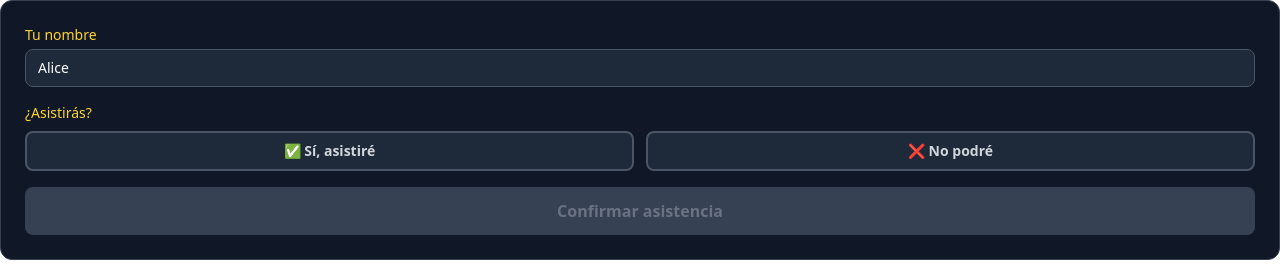
Scenario: RsvpForm › submit button is enabled after selecting attending
Click the button "✅ Sí, asistiré" at (330, 151), box 25,131 -> 634,171
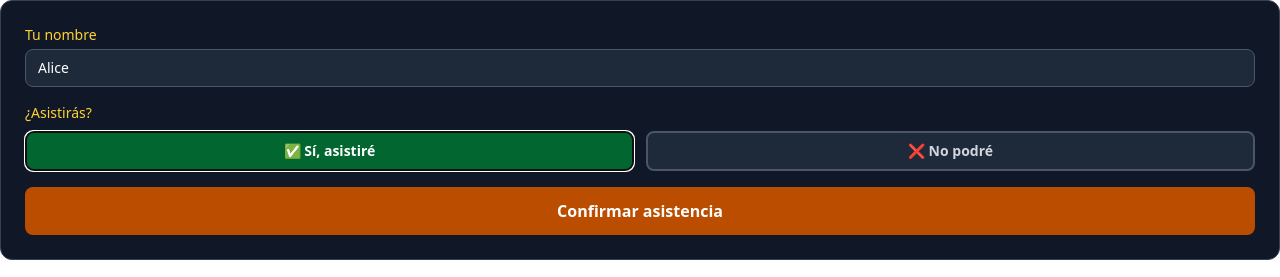
Expected: the button "Confirmar asistencia" is enabled, 25,187 -> 1255,235
